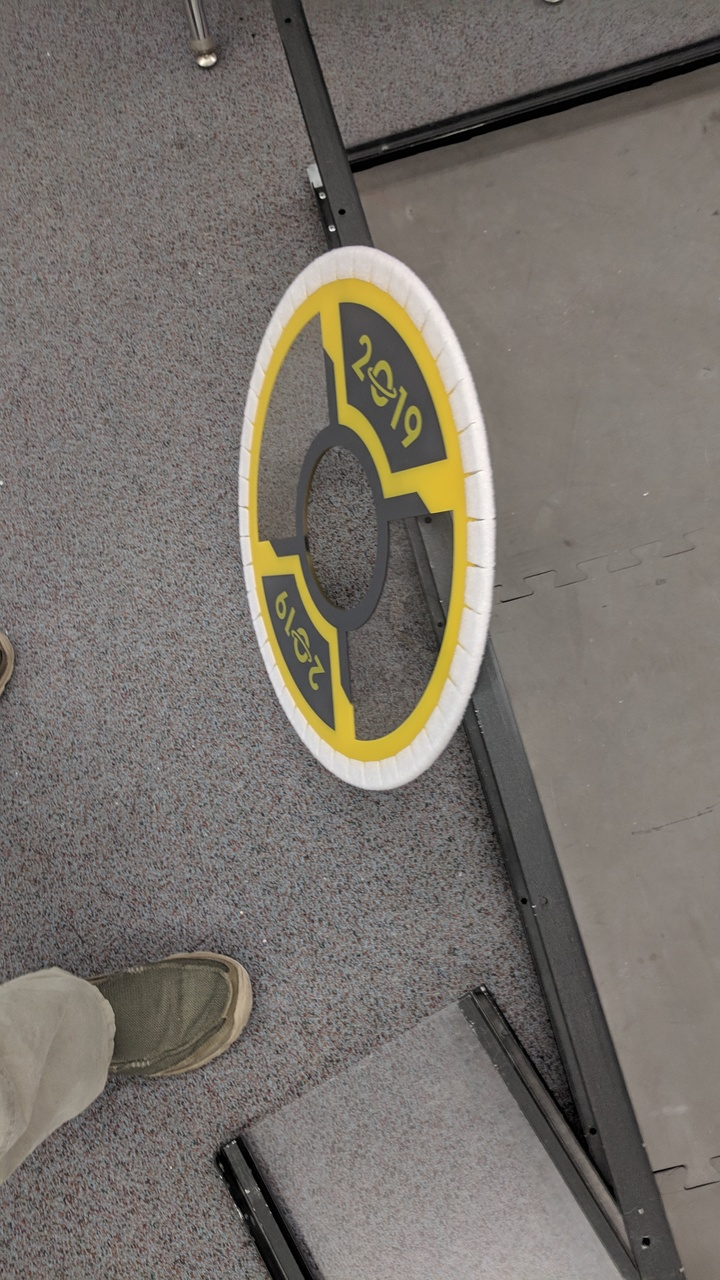hatch_panel: (225, 241, 502, 803)
